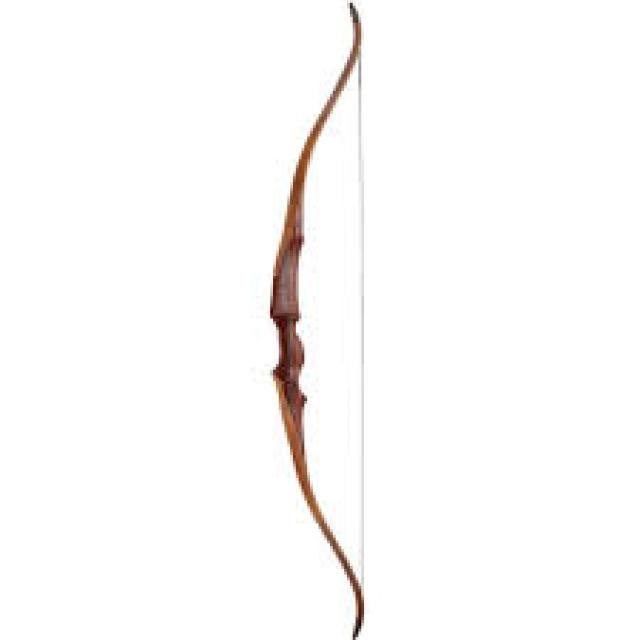X-Bow: (254, 0, 380, 640)
